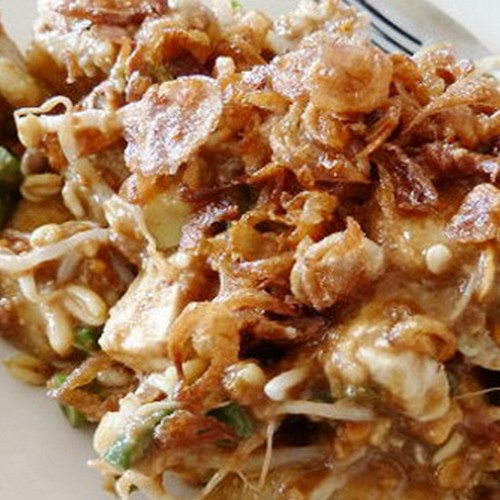tipat cantok: (20, 23, 487, 483)
